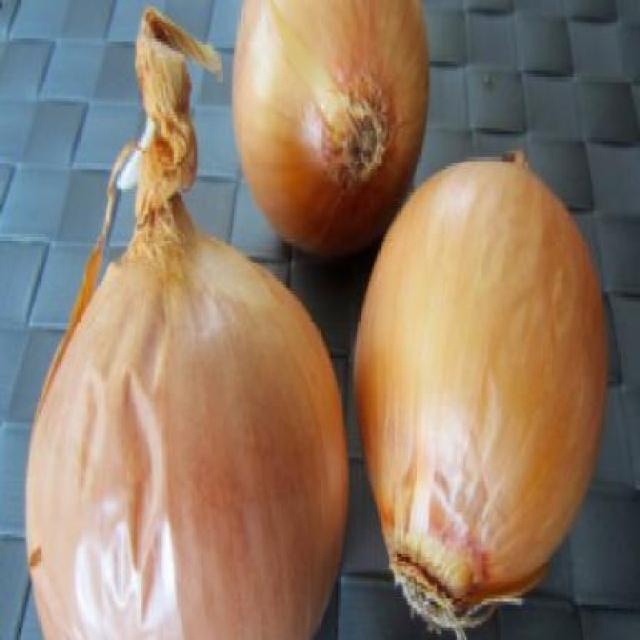Onion: (26, 8, 348, 640), (358, 157, 609, 640), (234, 0, 429, 257)
